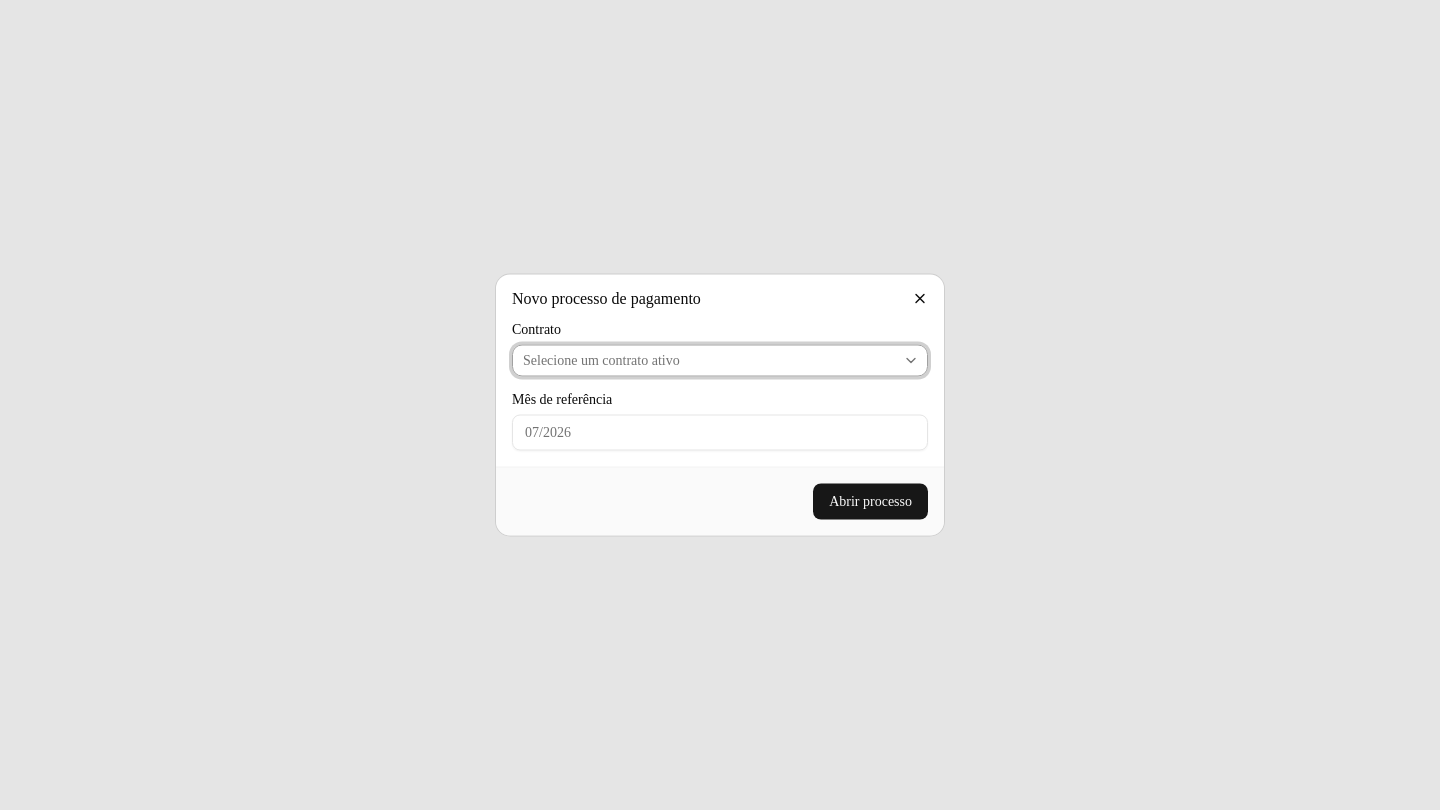
Test: NovoProcessoDialog › valida o formato do mês de referência antes de enviar
The image size is (1440, 810).
Step 1. Type "13/26" into the field labelled "Mês de referência" → (720, 432), box [512,414,928,450]
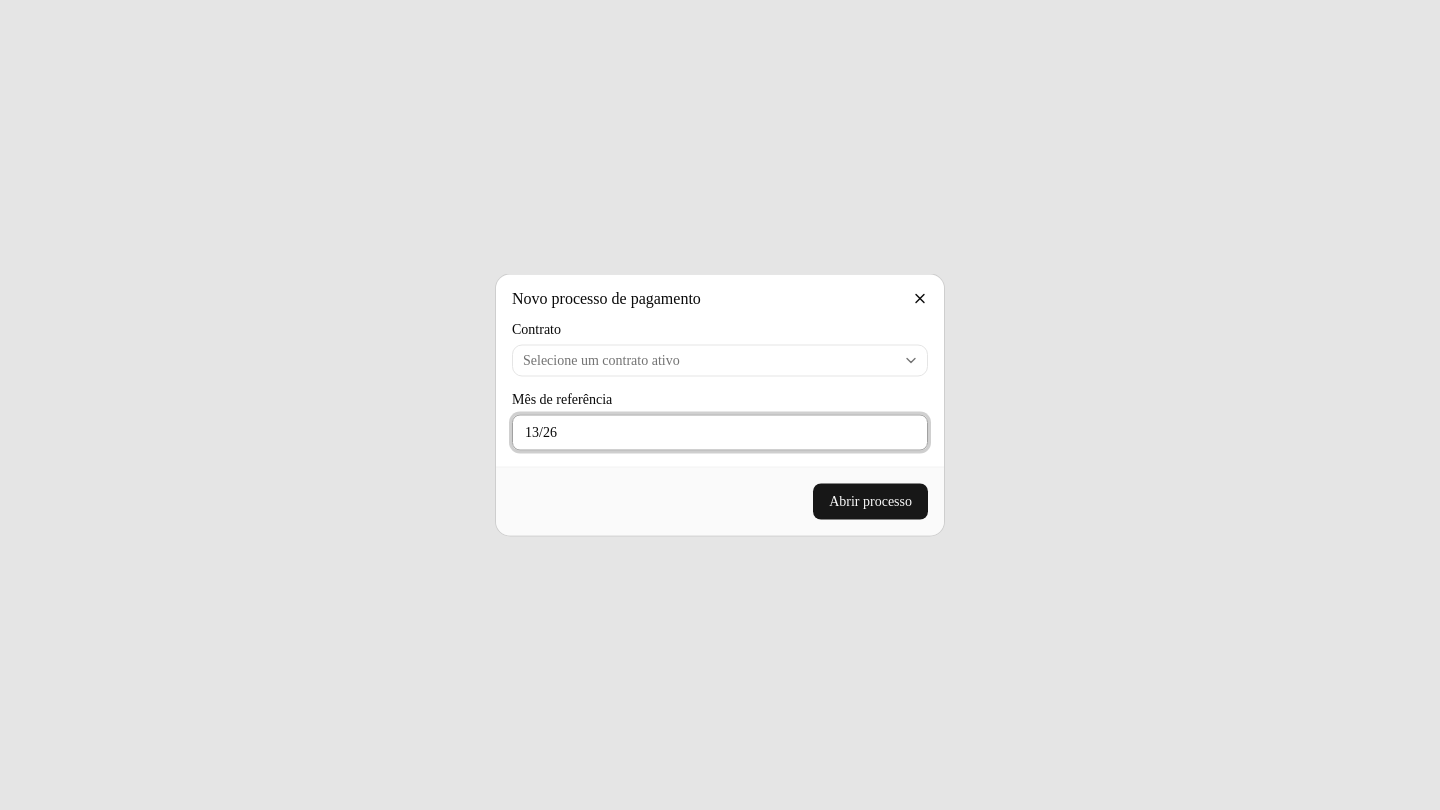
Step 2. Click the button "Abrir processo" → (871, 502), box [813,484,928,520]
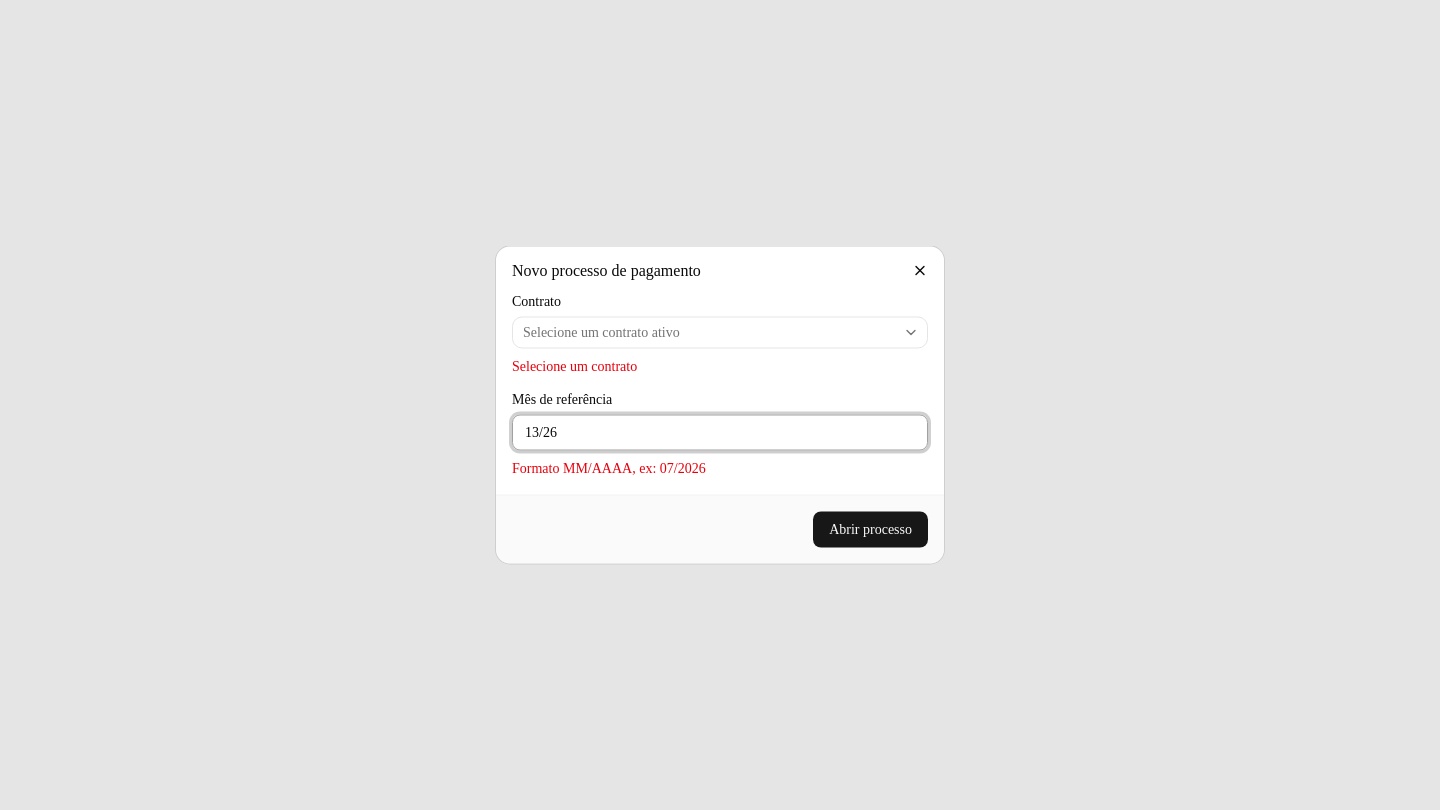
Check: the text "Formato MM/AAAA, ex: 07/2026" is shown, box [512,460,706,476]
